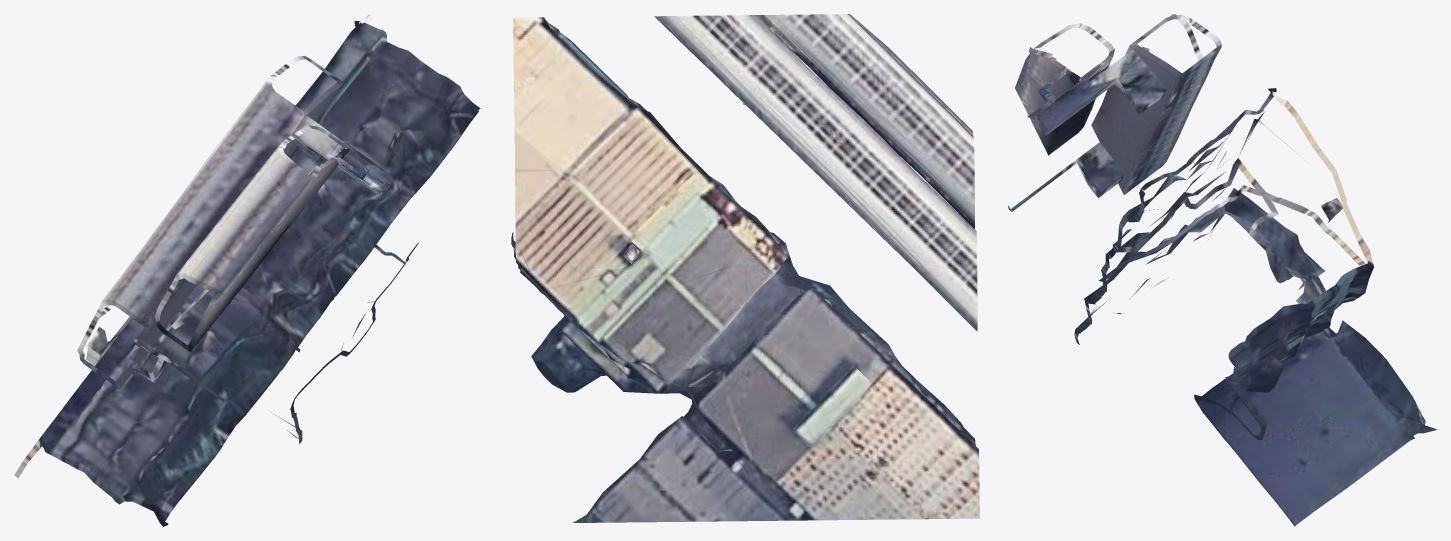
3 renders of one model, left to right at view 1: azimuth 30°, elevation 25°; view 2: azimuth 150°, elevation 25°; view 3: azimuth 270°, elevation 25°, orthographic. The views are drawn at different scales.
Size of the model in its own units: 43.04 by 40.9 by 33.99.
2 materials, 2 textured.
